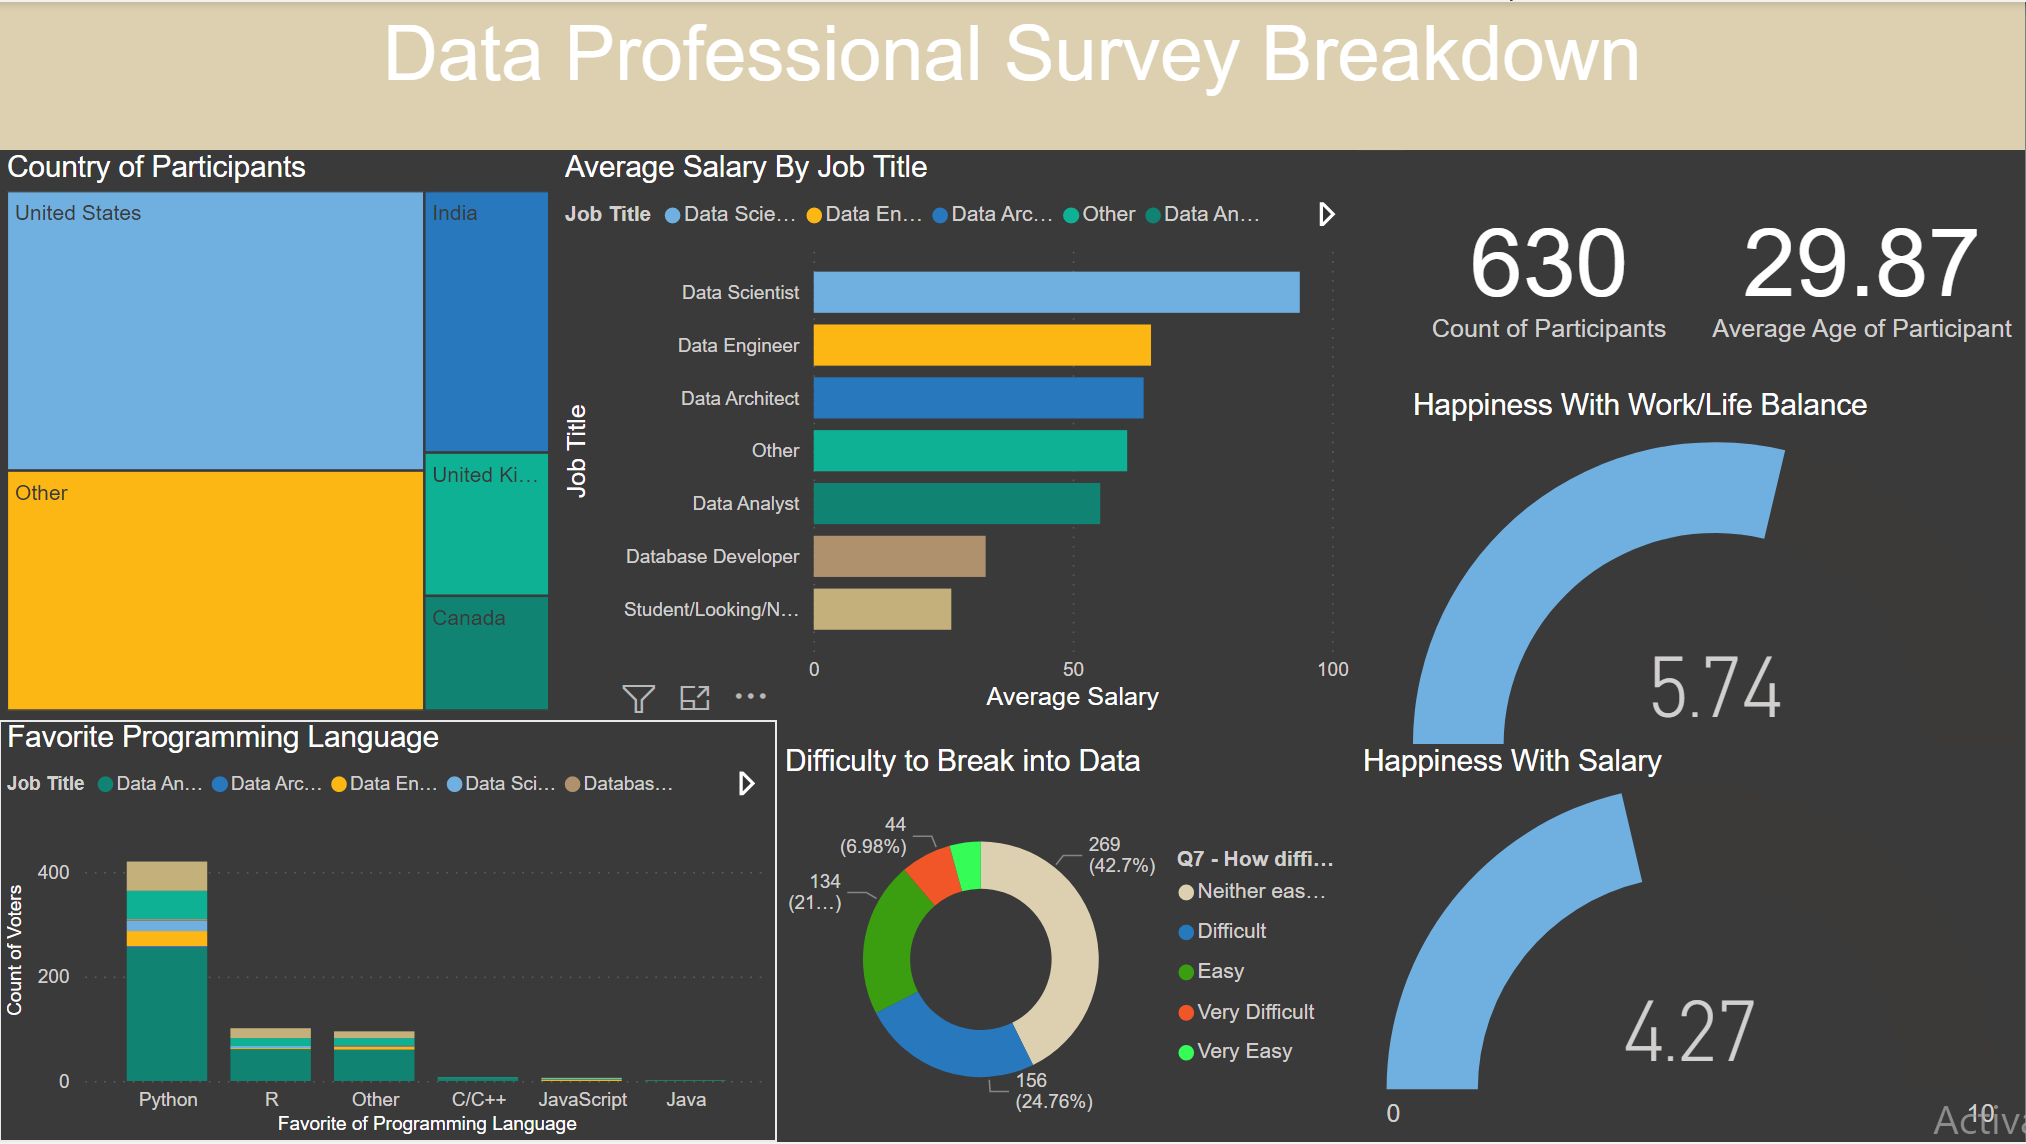

The page's visual inventory and layout, read from the dashboard file:
{"tool":"powerbi","page":{"name":"Page 1","canvas":[1280,720],"ordinal":0},"visuals":[{"type":"textbox","box":[0,0,1280,93.4],"z":0},{"type":"card","fields":{"Values":["Count(Data Professional Survey.Unique ID)"]},"box":[888,93.4,182.2,150],"z":1000},{"type":"card","fields":{"Values":["Avg(Data Professional Survey.Q10 - Current Age)"]},"box":[1068.7,93.4,215.9,150],"z":2000},{"type":"barChart","title":"Average Salary By Job Title","fields":{"Category":["Data Professional Survey.Q1 - Which Title Best Fits your Current Role?.1"],"Y":["Avg(Data Professional Survey.Average Salary)"],"Series":["Data Professional Survey.Q1 - Which Title Best Fits your Current Role?.1"]},"box":[352.3,93.6,505.5,359.1],"z":3000},{"type":"columnChart","title":"Favorite Programming Language","fields":{"Category":["Data Professional Survey.Q5 - Favorite Programming Language.1"],"Y":["CountNonNull(Data Professional Survey.Unique ID)"],"Series":["Data Professional Survey.Q1 - Which Title Best Fits your Current Role?.1"]},"box":[0,453.2,491.5,266.4],"z":4000},{"type":"treemap","title":"Country of Participants","fields":{"Group":["Data Professional Survey.Q11 - Which Country do you live in?.1"],"Values":["CountNonNull(Data Professional Survey.Q11 - Which Country do you live in?.1)"]},"box":[0,93.6,352.3,359.1],"z":5000},{"type":"gauge","title":"Happiness With Work/Life Balance","fields":{"Y":["Avg(Data Professional Survey.Q6 - How Happy are you in your Current Position with the following? (Work/Life Balance))"],"MinValue":["Min(Data Professional Survey.Q6 - How Happy are you in your Current Position with the following? (Work/Life Balance))1"],"MaxValue":["Max(Data Professional Survey.Q6 - How Happy are you in your Current Position with the following? (Work/Life Balance))2"]},"box":[888,243.4,392,266.4],"z":6000},{"type":"gauge","title":"Happiness With Salary","fields":{"Y":["Avg(Data Professional Survey.Q6 - How Happy are you in your Current Position with the following? (Salary))"],"MinValue":["Min(Data Professional Survey.Q6 - How Happy are you in your Current Position with the following? (Salary))"],"MaxValue":["Max(Data Professional Survey.Q6 - How Happy are you in your Current Position with the following? (Salary))"]},"box":[855.9,468.5,424.1,251.1],"z":7000},{"type":"donutChart","title":"Difficulty to Break into Data","fields":{"Category":["Data Professional Survey.Q7 - How difficult was it for you to break into Data?"],"Y":["CountNonNull(Data Professional Survey.Q7 - How difficult was it for you to break into Data?)"]},"box":[491.5,468.5,364.4,251.1],"z":8000}]}

Visuals, with their boxes in screenshot pixels (x1, y1, x2, y2), scaled from the page's 1280x720 canvas onto the 2026x1144 screenshot:
textbox: {"left": 0, "top": 0, "right": 2025, "bottom": 148}
card - Count(Data Professional Survey.Unique ID): {"left": 1406, "top": 148, "right": 1694, "bottom": 387}
card - Avg(Data Professional Survey.Q10 - Current Age): {"left": 1692, "top": 148, "right": 2025, "bottom": 387}
"Average Salary By Job Title" barChart: {"left": 558, "top": 149, "right": 1358, "bottom": 719}
"Favorite Programming Language" columnChart: {"left": 0, "top": 720, "right": 778, "bottom": 1143}
"Country of Participants" treemap: {"left": 0, "top": 149, "right": 558, "bottom": 719}
"Happiness With Work/Life Balance" gauge: {"left": 1406, "top": 387, "right": 2025, "bottom": 810}
"Happiness With Salary" gauge: {"left": 1355, "top": 744, "right": 2025, "bottom": 1143}
"Difficulty to Break into Data" donutChart: {"left": 778, "top": 744, "right": 1355, "bottom": 1143}
